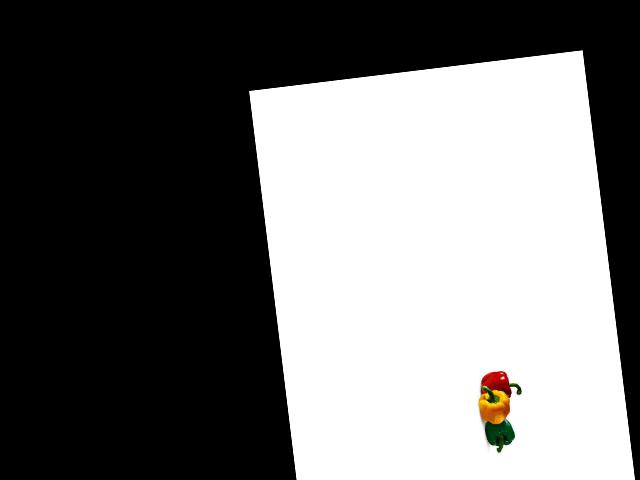bell_pepper: (480, 413, 519, 453)
